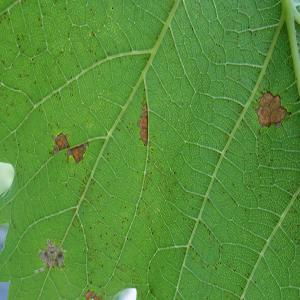Folha: (0, 0, 299, 299)
Fungo: (252, 90, 290, 134), (49, 131, 89, 165), (38, 238, 66, 269), (136, 97, 148, 146), (49, 131, 70, 156), (66, 141, 88, 164), (83, 288, 103, 299)
